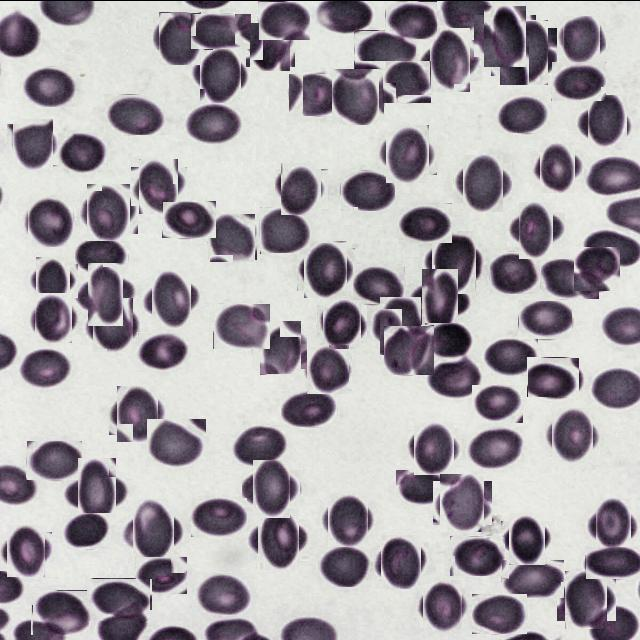red blood cell: (496, 22, 553, 80), (427, 234, 481, 288), (86, 577, 152, 620), (147, 418, 206, 466), (70, 464, 123, 517), (127, 504, 180, 556), (329, 70, 382, 122), (479, 9, 532, 61), (424, 34, 476, 86), (436, 476, 488, 528), (300, 243, 352, 294), (213, 302, 270, 348), (32, 589, 90, 634), (382, 127, 433, 178), (252, 514, 304, 564), (465, 424, 524, 468), (561, 574, 612, 624), (184, 102, 244, 144), (104, 93, 165, 134), (112, 388, 162, 438), (196, 48, 246, 98), (84, 186, 134, 236), (415, 276, 465, 326), (376, 300, 426, 350), (384, 324, 434, 374), (501, 558, 564, 597), (81, 269, 130, 319), (354, 29, 416, 68), (26, 195, 75, 244), (458, 158, 508, 206), (195, 572, 251, 614), (232, 424, 288, 466), (548, 411, 597, 459), (147, 274, 196, 322), (260, 206, 310, 253), (541, 258, 599, 298), (156, 13, 204, 61), (247, 464, 295, 512), (378, 537, 426, 585), (584, 98, 632, 146), (256, 324, 304, 372), (190, 496, 247, 536), (288, 72, 341, 115), (88, 301, 136, 348), (410, 424, 458, 471), (325, 494, 372, 542), (135, 162, 183, 209), (340, 169, 395, 210), (26, 439, 82, 479), (426, 357, 482, 397), (19, 348, 75, 388), (318, 544, 371, 586), (209, 213, 256, 260), (450, 535, 505, 575), (472, 593, 527, 633), (551, 60, 606, 100), (190, 12, 251, 48), (23, 66, 77, 106), (398, 202, 452, 242), (483, 336, 538, 375), (420, 583, 466, 629), (278, 165, 324, 211), (304, 346, 350, 392), (10, 120, 56, 166), (513, 206, 559, 252), (3, 528, 49, 574), (382, 59, 431, 102), (518, 299, 572, 338), (490, 251, 540, 293), (353, 263, 405, 303), (527, 356, 579, 396), (281, 389, 337, 426), (137, 331, 188, 371), (258, 0, 310, 39), (248, 23, 293, 68), (574, 246, 620, 290), (162, 200, 216, 237), (135, 555, 187, 593), (385, 0, 437, 38), (75, 237, 128, 274), (472, 384, 523, 422), (506, 516, 550, 560), (320, 301, 364, 345), (536, 144, 580, 188), (31, 295, 75, 339), (592, 502, 636, 546), (497, 95, 549, 132), (58, 132, 108, 170), (396, 469, 448, 505), (560, 17, 603, 60), (585, 545, 640, 578), (32, 259, 74, 301), (425, 322, 474, 358), (63, 512, 111, 548)
